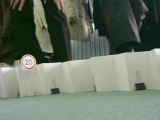speed_20: (19, 53, 36, 70)
